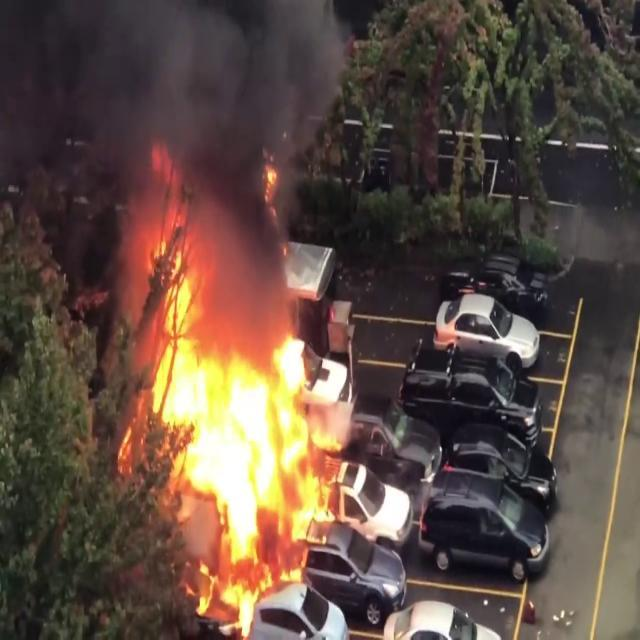Fire: (109, 180, 348, 618)
Smoke: (0, 0, 348, 289)
